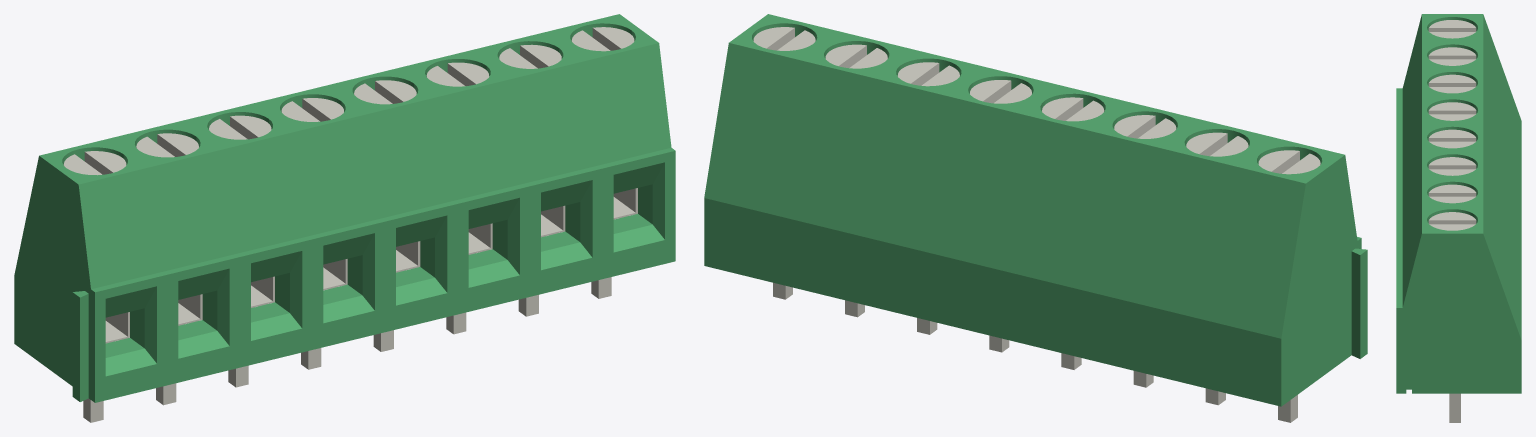
Rendered from kc-terminalblock_phoenix_mkds-1_5-8-5.08_1x08_p5.08mm_horizontal.glb.
3 views of the same model, side by side, from view 1: azimuth 30°, elevation 25°; view 2: azimuth 150°, elevation 25°; view 3: azimuth 270°, elevation 25° (orthographic). The views are drawn at different scales.
Visible parts, largest first — view 1: 0.08333333333333333_0.4166666666666667_0.16666666666666666_0, 0.6666666666666666_0.6666666666666666_0.5833333333333334_0.8; view 2: 0.08333333333333333_0.4166666666666667_0.16666666666666666_0, 0.6666666666666666_0.6666666666666666_0.5833333333333334_0.8; view 3: 0.08333333333333333_0.4166666666666667_0.16666666666666666_0, 0.6666666666666666_0.6666666666666666_0.5833333333333334_0.8.
Part boxes in pixels (x1,y1,x2,y2): 0.08333333333333333_0.4166666666666667_0.16666666666666666_0: [14, 14, 675, 402]; 0.6666666666666666_0.6666666666666666_0.5833333333333334_0.8: [63, 27, 637, 422]; 0.08333333333333333_0.4166666666666667_0.16666666666666666_0: [704, 14, 1367, 406]; 0.6666666666666666_0.6666666666666666_0.5833333333333334_0.8: [753, 27, 1320, 422]; 0.08333333333333333_0.4166666666666667_0.16666666666666666_0: [1396, 14, 1521, 393]; 0.6666666666666666_0.6666666666666666_0.5833333333333334_0.8: [1428, 20, 1476, 422].
Size of the model in its own units: 4.14 by 1.73 by 0.98.
